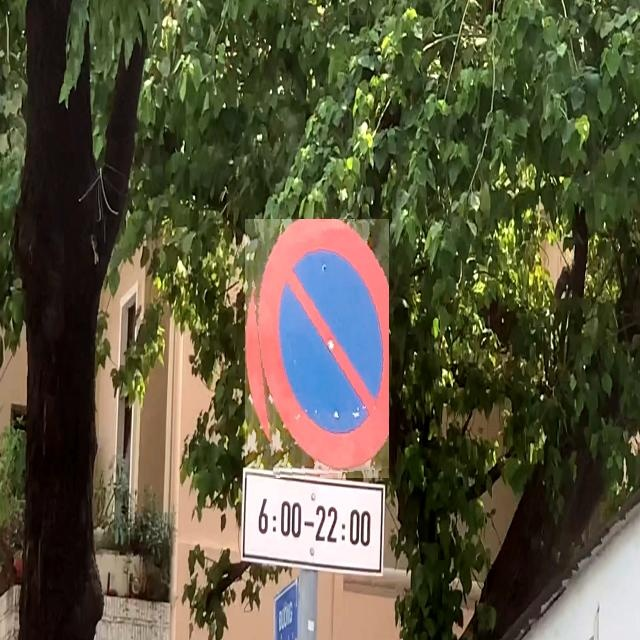bien_cam: (245, 219, 389, 478)
